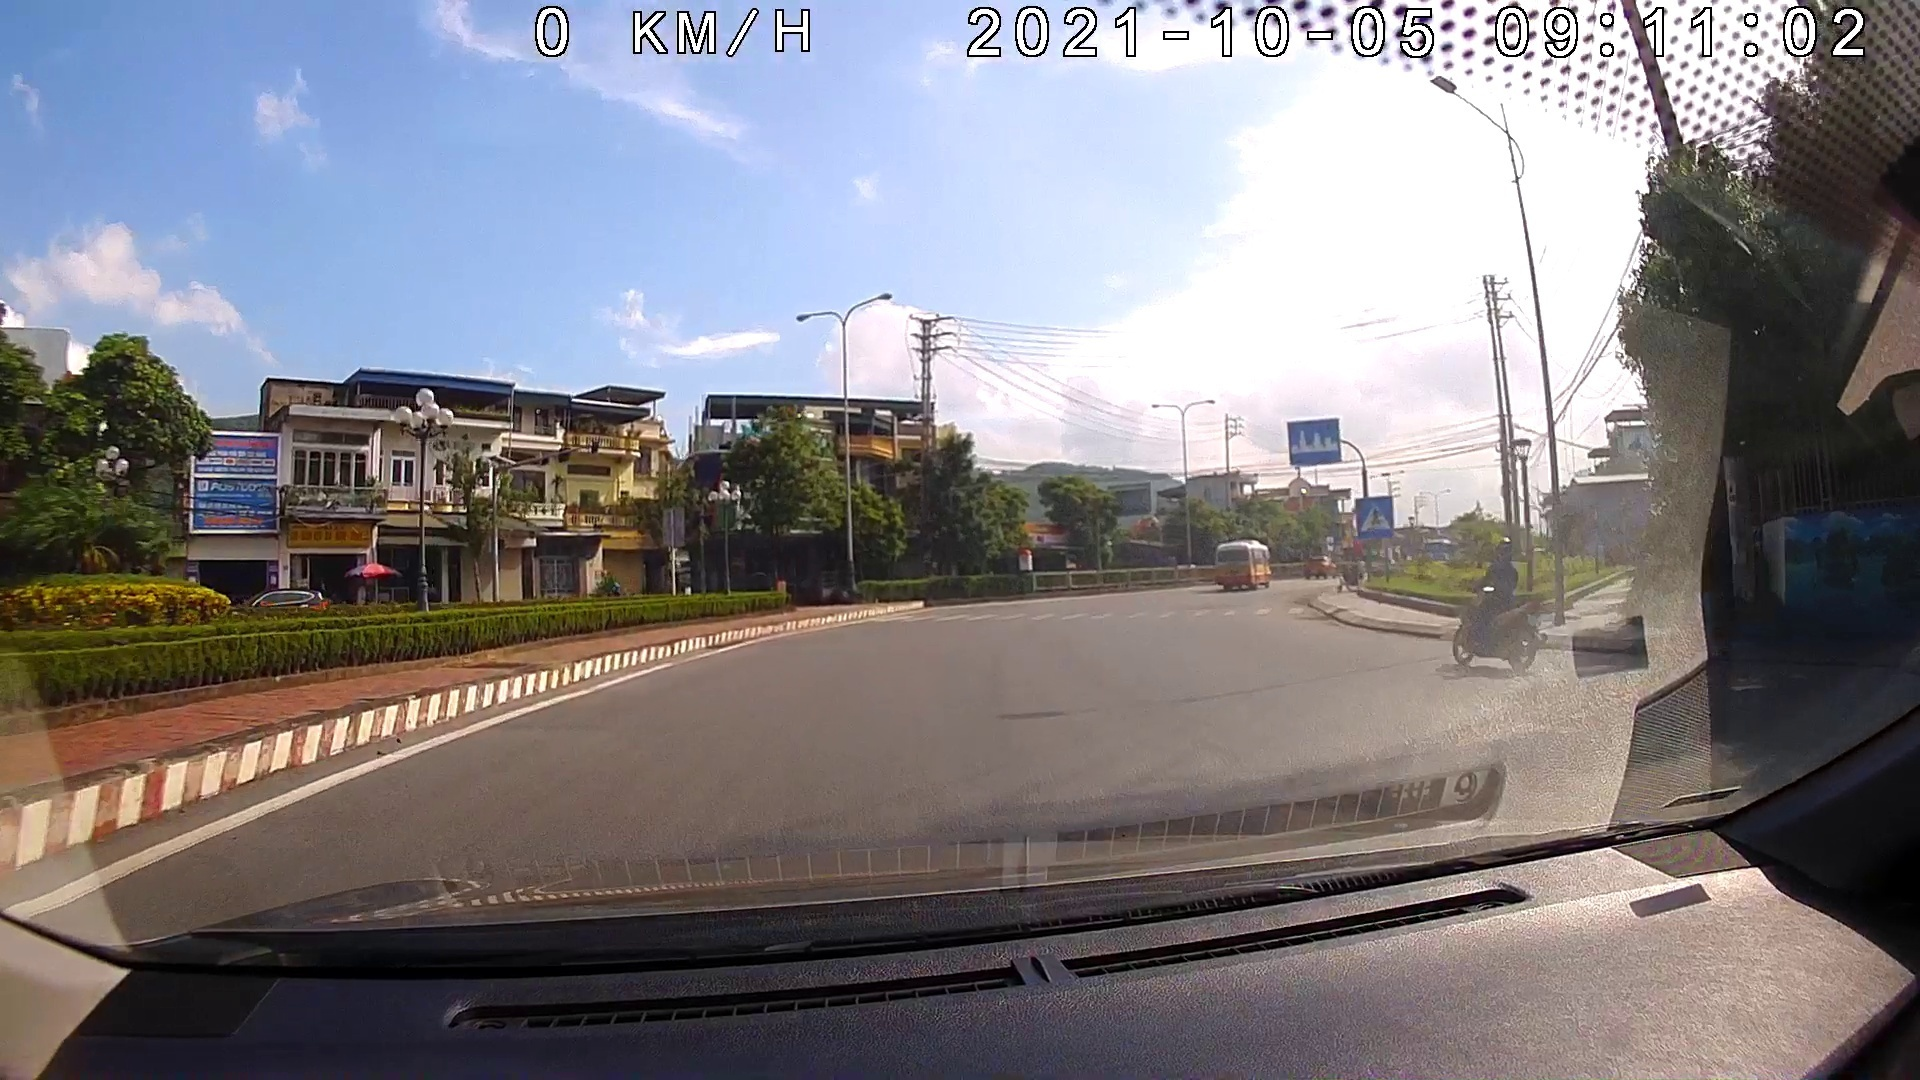Bien khac: (1288, 415, 1344, 465)
Nguoi di bo: (1354, 495, 1393, 535)
